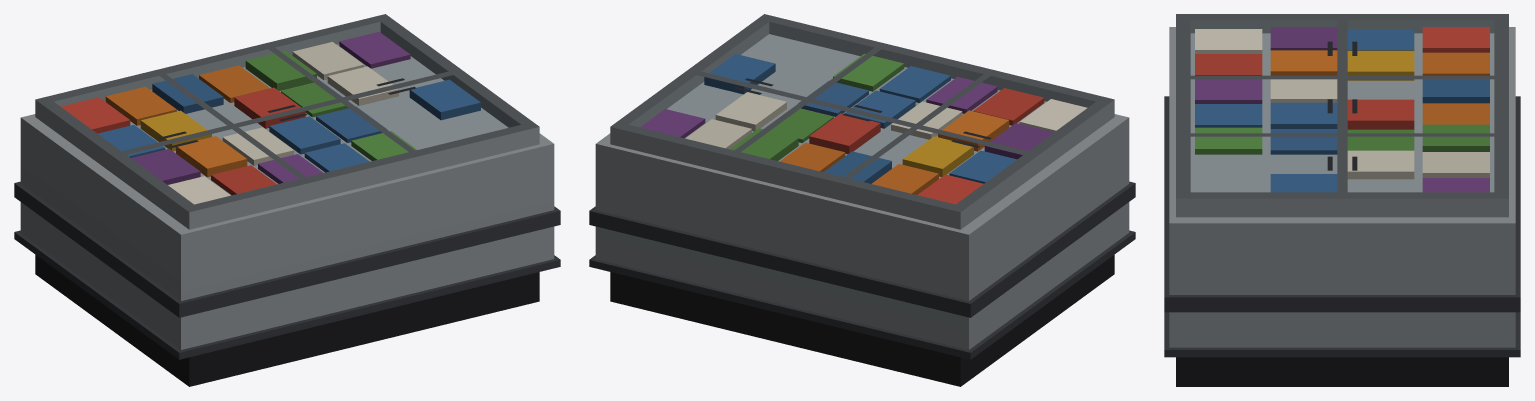
The model's file is appliance.freezer_chest.steel.glb.
3 views of the same model, side by side, from view 1: azimuth 30°, elevation 25°; view 2: azimuth 150°, elevation 25°; view 3: azimuth 270°, elevation 25° (orthographic). The views are drawn at different scales.
Parts seen in each view (by area): view 1: appliance_freezer_chest_steel; view 2: appliance_freezer_chest_steel; view 3: appliance_freezer_chest_steel.
Part boxes in pixels (left/top/right/bottom): appliance_freezer_chest_steel: left=14, top=14, right=560, bottom=386; appliance_freezer_chest_steel: left=589, top=14, right=1135, bottom=386; appliance_freezer_chest_steel: left=1164, top=14, right=1520, bottom=386.
Size of what is drawn, in the model's own units: 2.29 by 1 by 1.71.
